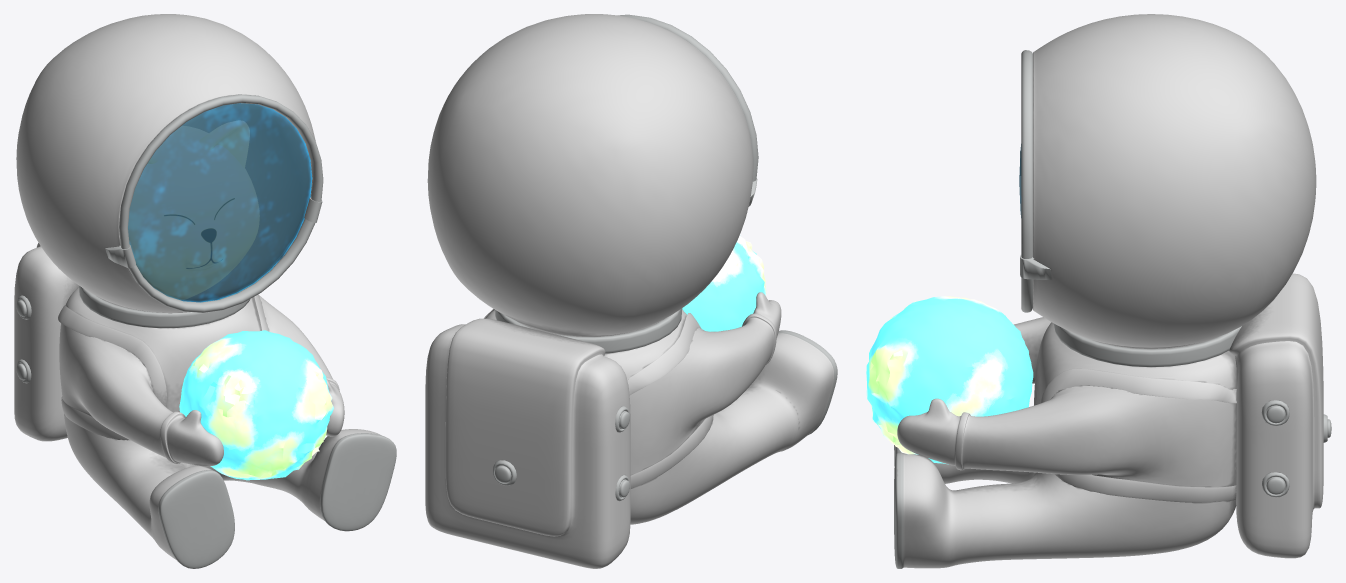
File: cats_space_suit_free_model.glb
The picture shows the model from 3 angles, left to right: view 1: azimuth 30°, elevation 25°; view 2: azimuth 150°, elevation 25°; view 3: azimuth 270°, elevation 25°; orthographic projection. The views are drawn at different scales.
Bounding box in the file's own units: 0.1883 × 0.3089 × 0.2651.
Materials: 5 (5 with a texture image).
